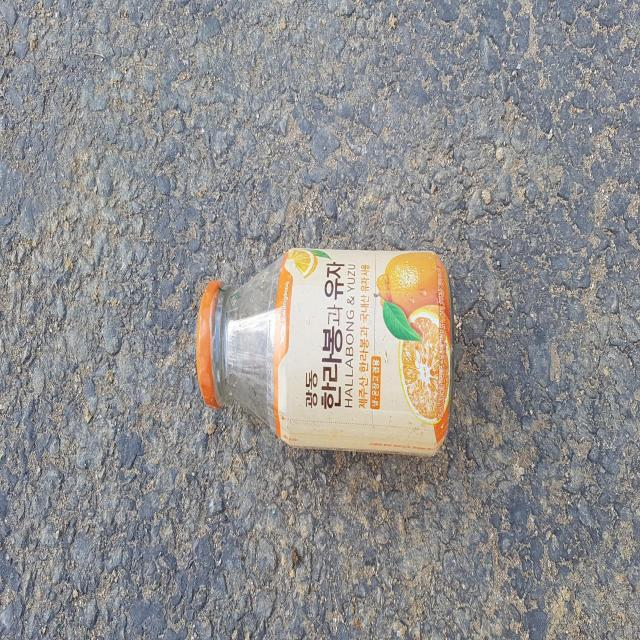glass: (197, 248, 455, 455)
